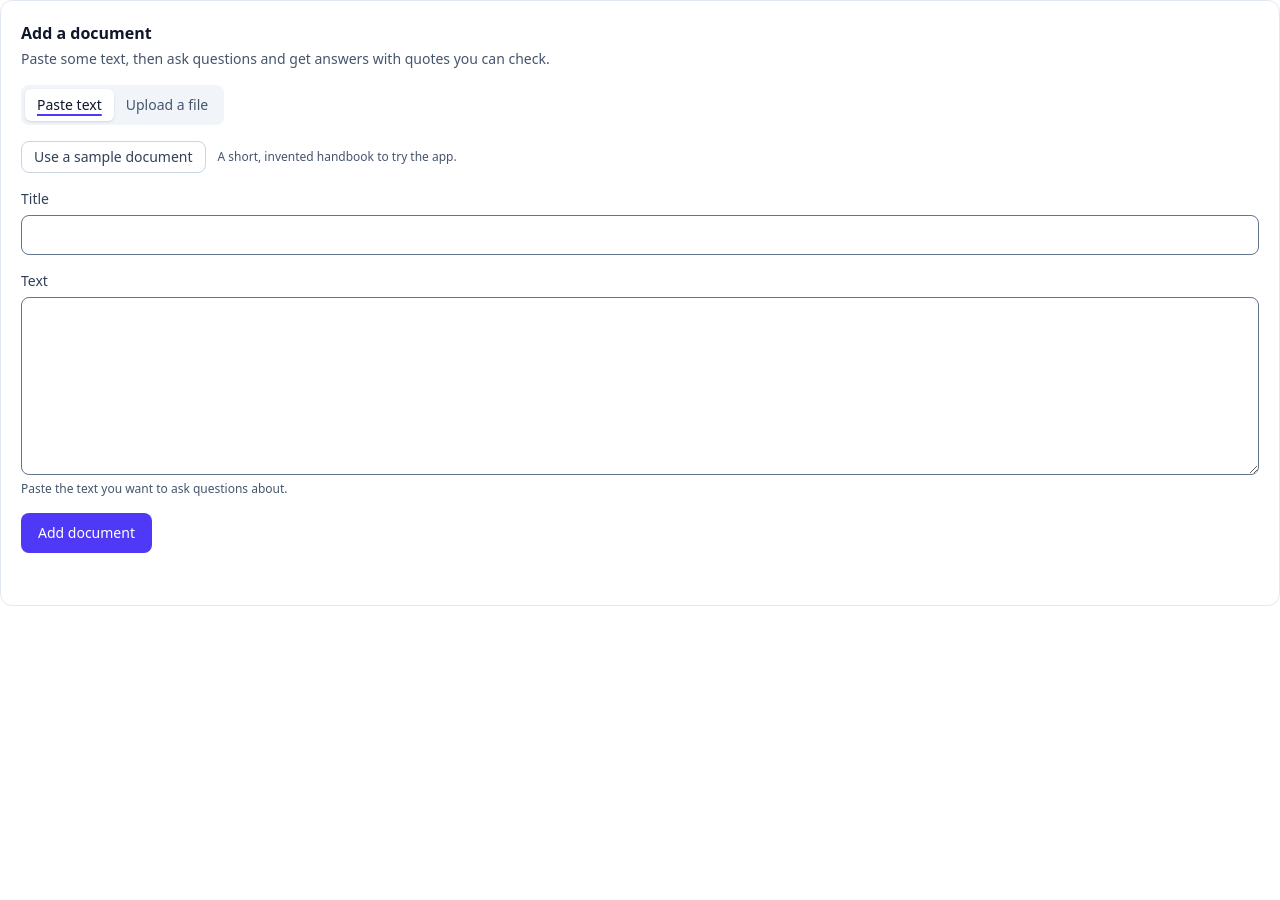
Test: NewDocumentForm: pasted text › asks for a title and some text before sending anything
Click the button "Add document" at (86, 533), box left=21, top=513, right=152, bottom=553
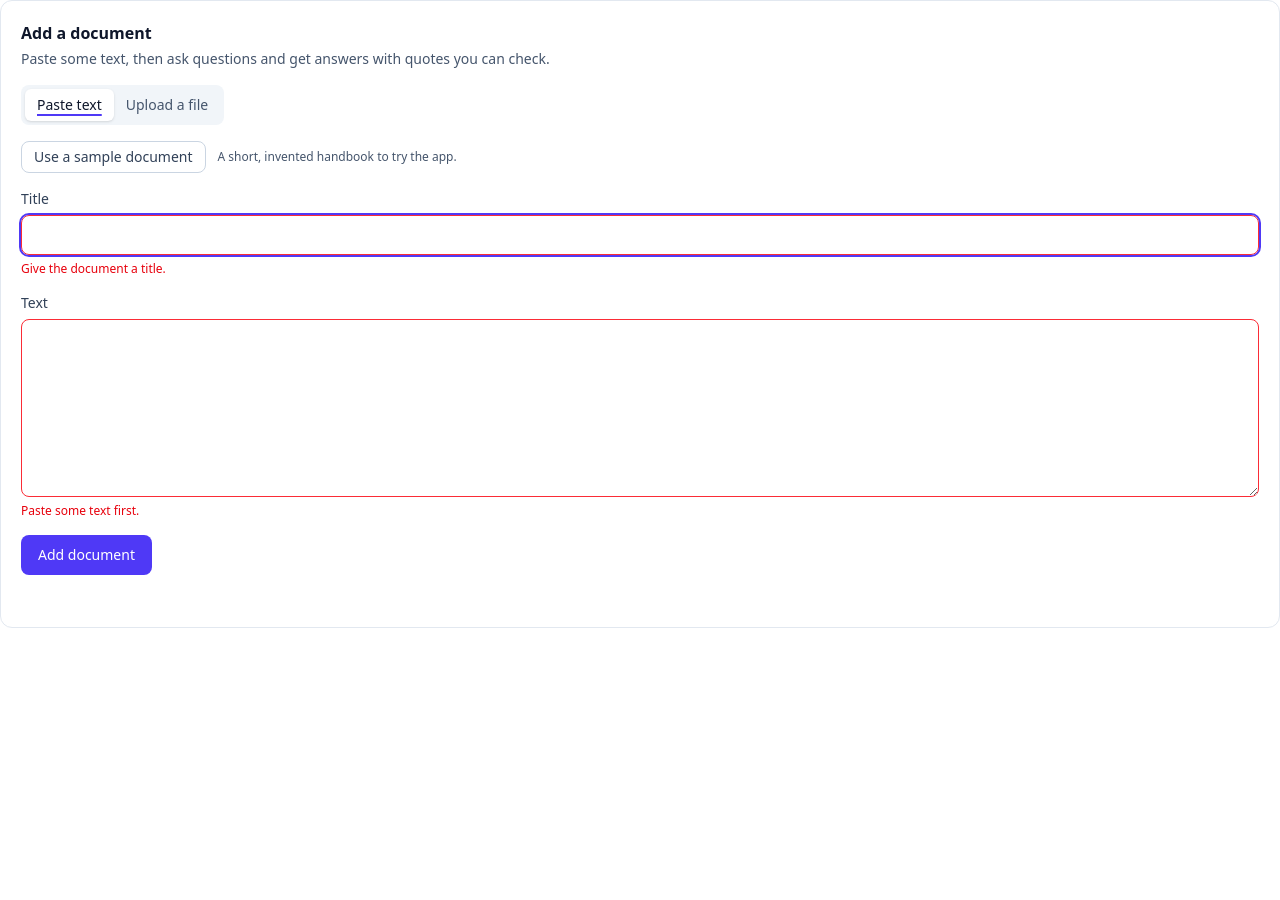
Check: the text "Give the document a title." is shown, box left=21, top=260, right=166, bottom=277
Check: the text "Paste some text first." is shown, box left=21, top=502, right=139, bottom=519
